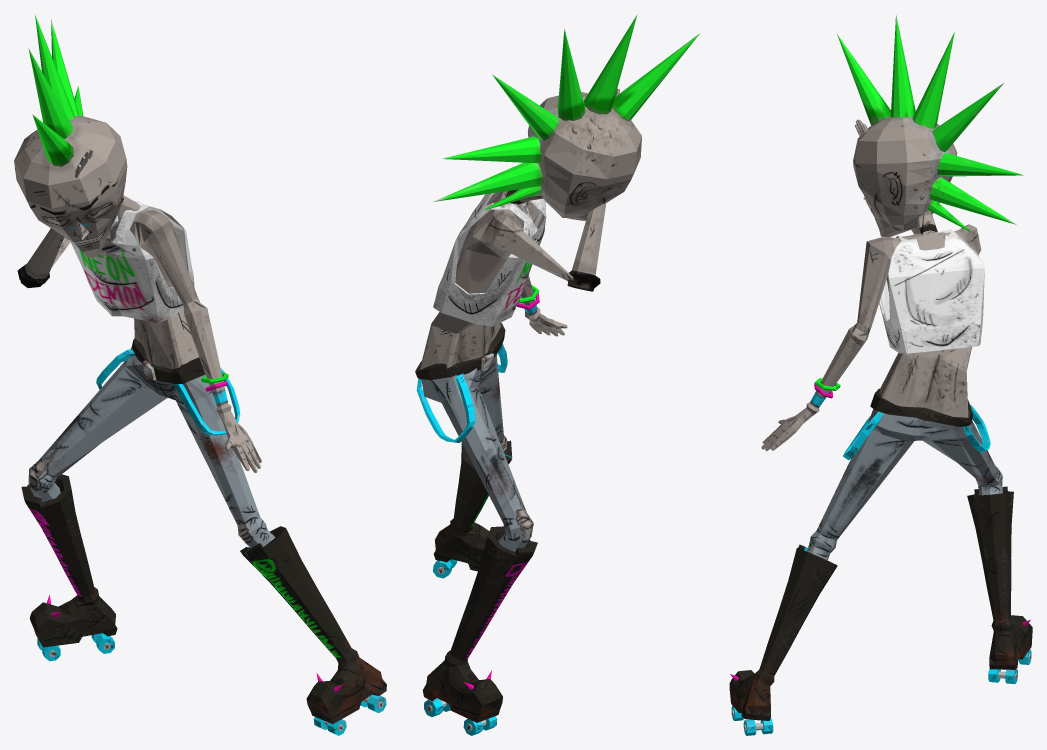
The model's file is punkAnimation_000015.obj.
3 views of the same model, side by side, from view 1: azimuth 30°, elevation 25°; view 2: azimuth 150°, elevation 25°; view 3: azimuth 270°, elevation 25° (orthographic). The views are drawn at different scales.
Visible parts, largest first — view 1: Cube.004_Cube.003; view 2: Cube.004_Cube.003; view 3: Cube.004_Cube.003.
Boxes of the visible parts, box(x1,y1,x2,y2) form: Cube.004_Cube.003: box(14, 14, 386, 735); Cube.004_Cube.003: box(415, 14, 699, 735); Cube.004_Cube.003: box(729, 15, 1032, 735).
Size of the model in its own units: 3.16 by 6.71 by 3.02.
